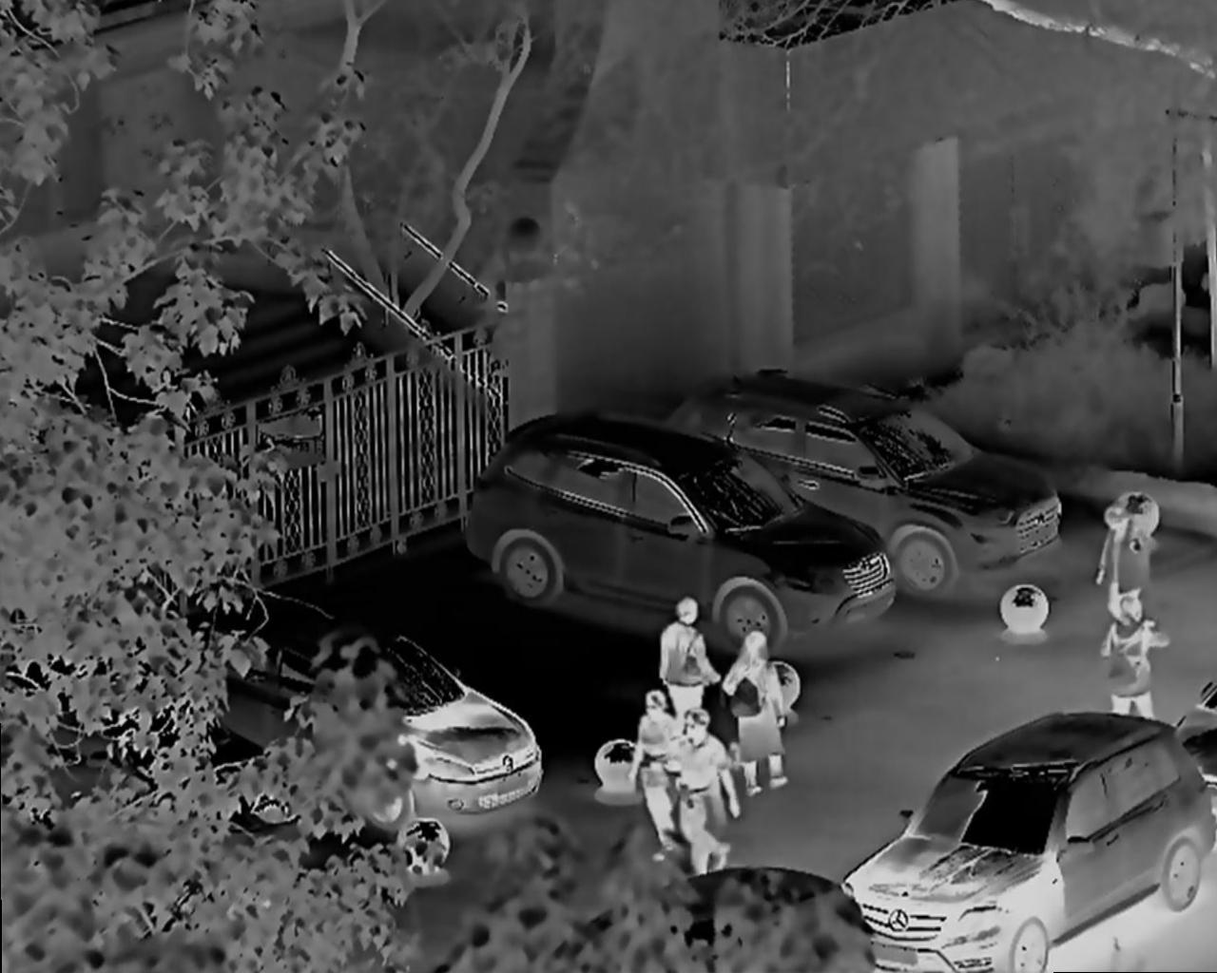person: (728, 627, 797, 795), (675, 704, 733, 874), (635, 695, 681, 861), (662, 590, 713, 732), (1103, 497, 1154, 636), (1107, 595, 1155, 734)
